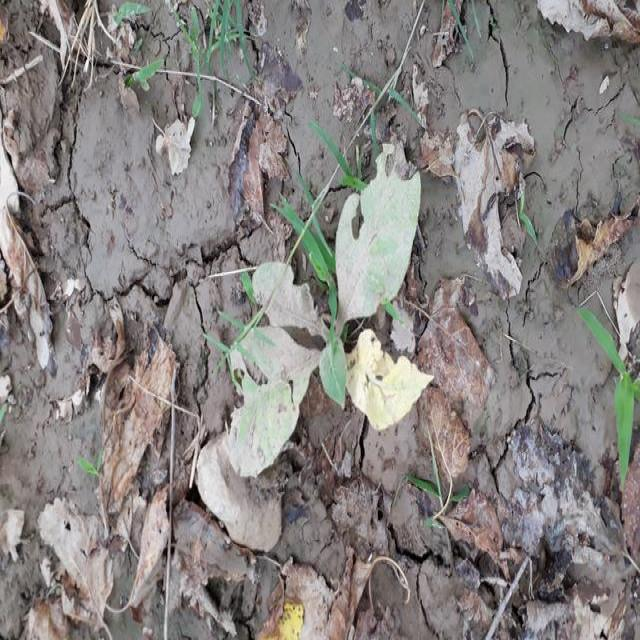crop: (232, 169, 436, 472)
